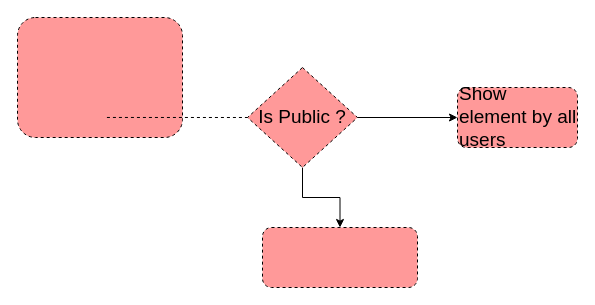
Image size: 595x305. Some labels were removed from this diagram. The centre of each missing label's shape, as x and y in pixels:
- id?: number - name: string - gender - likes - public: point (99, 77)
Private element: point (340, 257)
